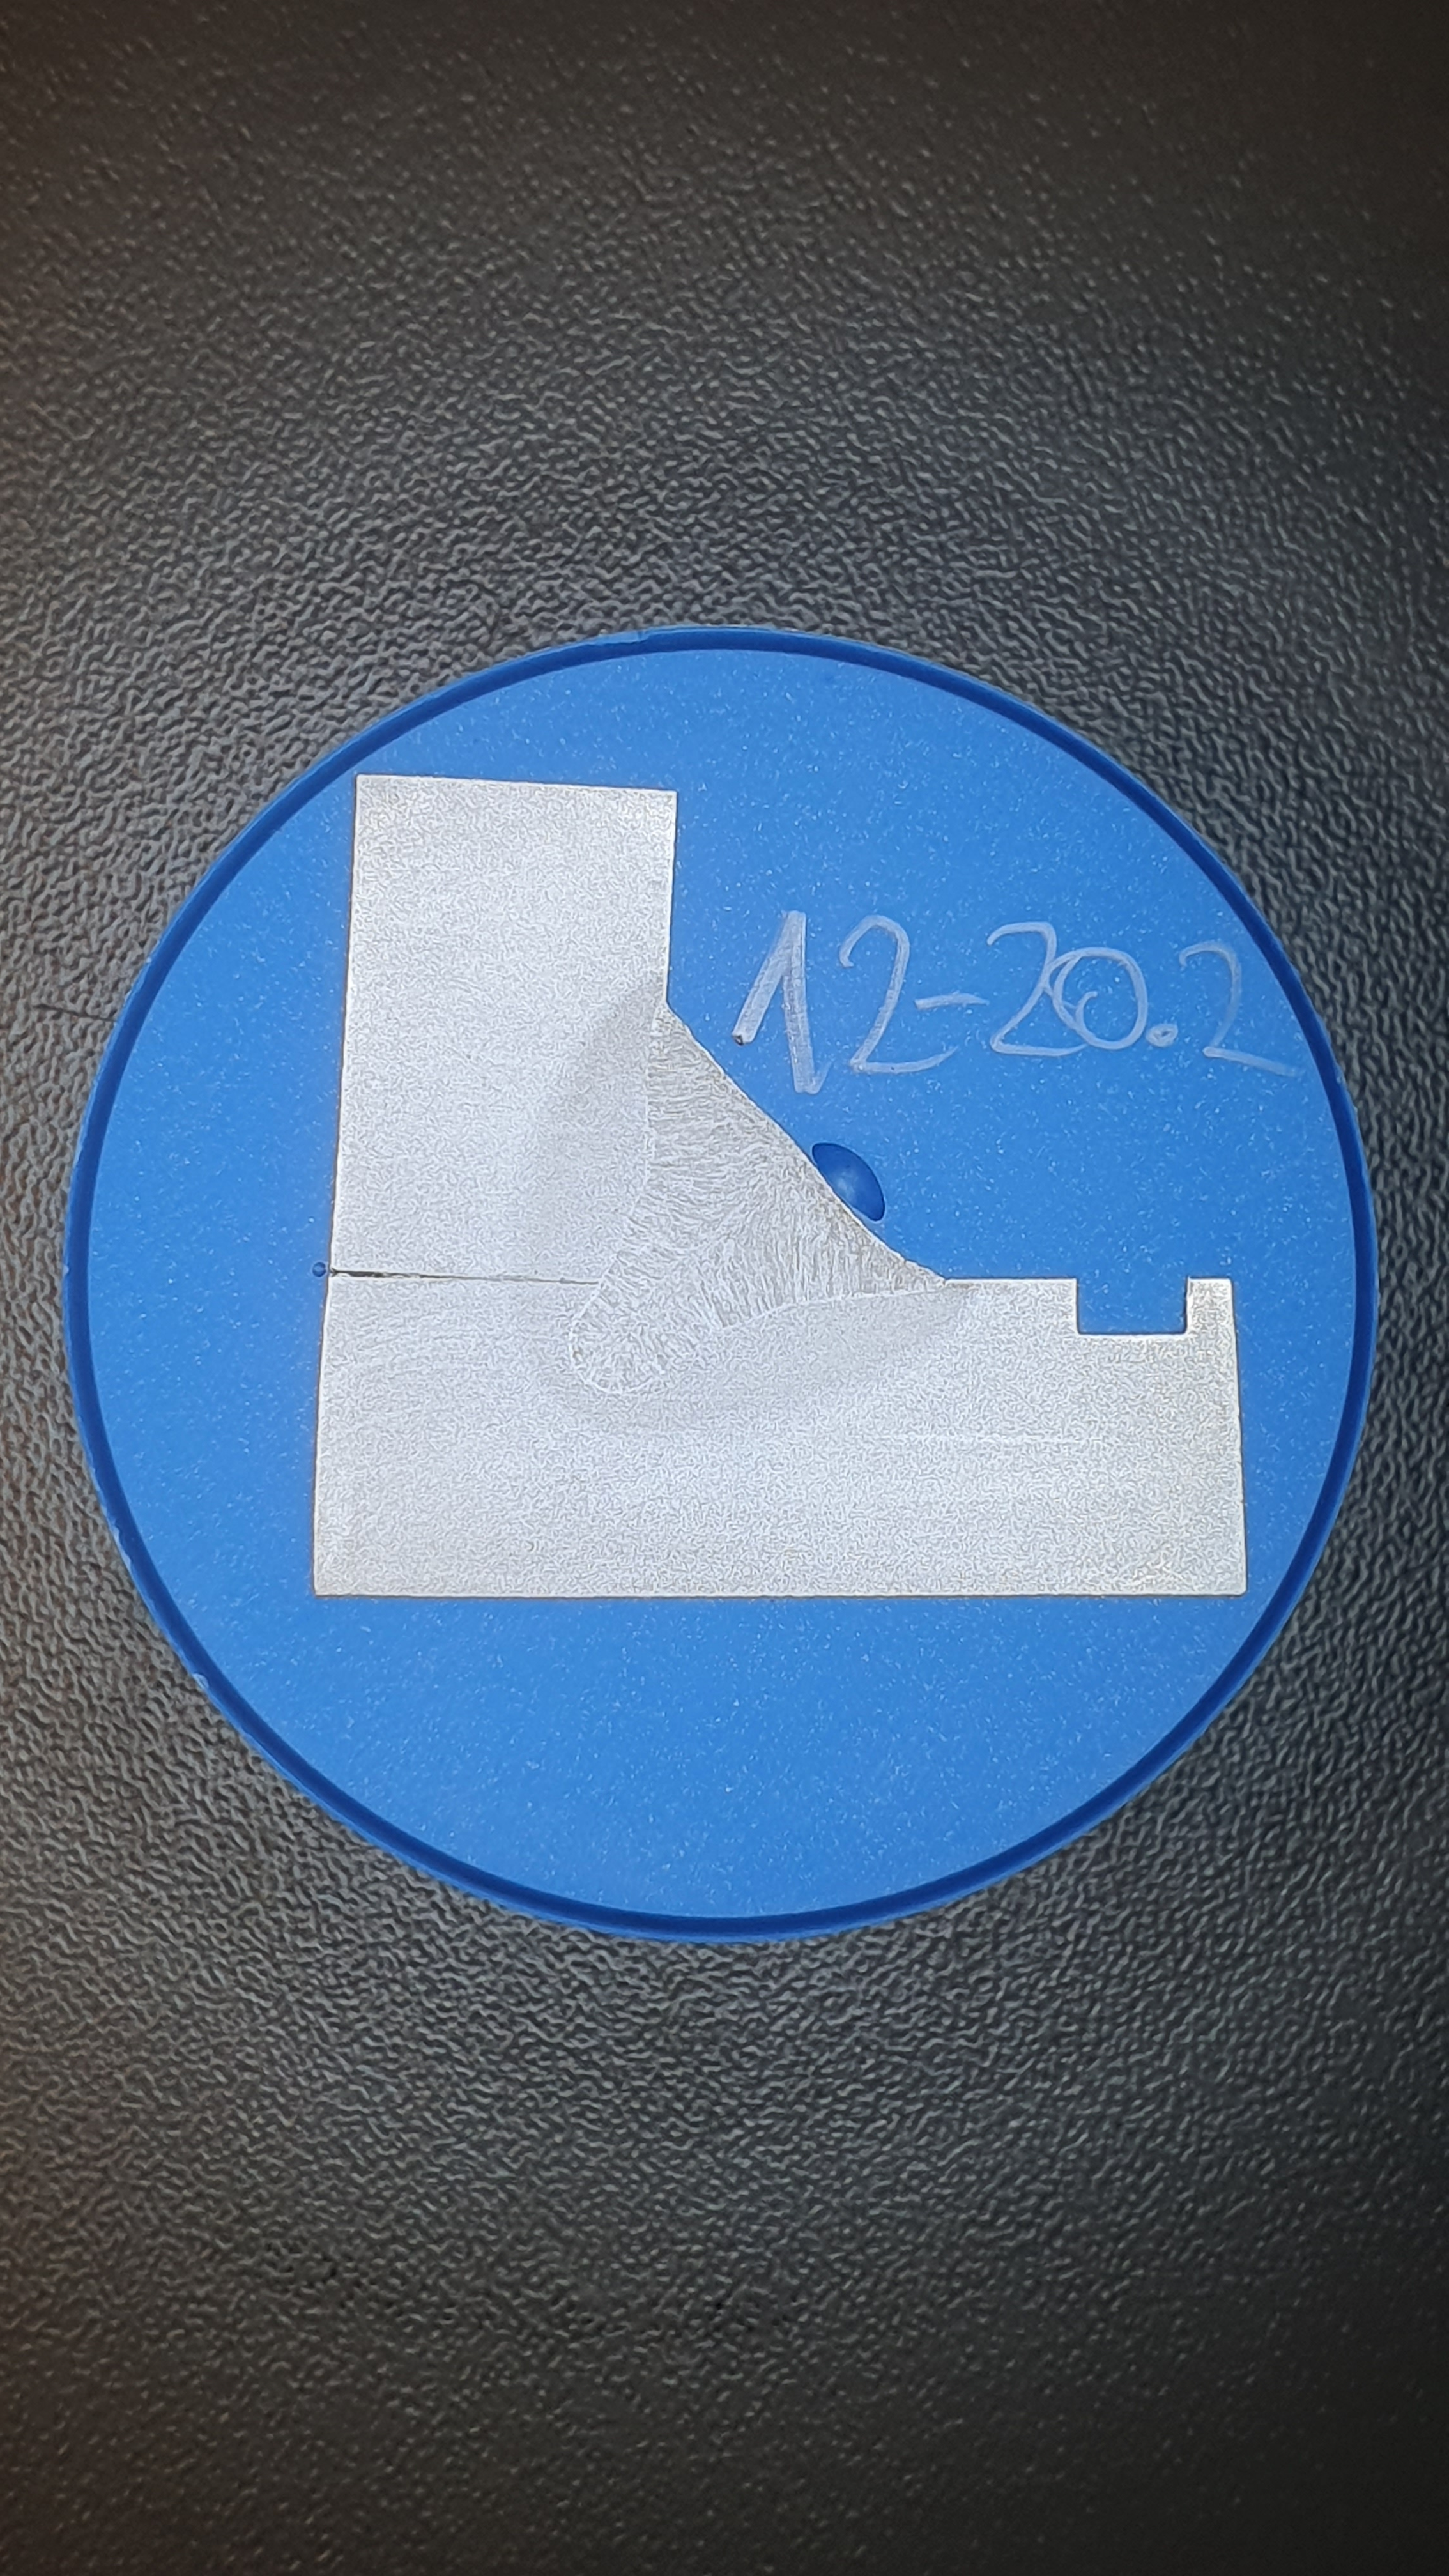Fusion: (572, 999, 946, 1393)
Hintergrund: (89, 648, 1354, 1917)
Metall: (313, 773, 1247, 1598)
Nebenbereich: (509, 970, 967, 1427)
